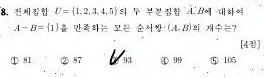choice: (108, 49, 121, 66)
not-choice: (158, 55, 170, 66), (9, 55, 20, 66), (59, 55, 70, 66), (209, 55, 220, 66)
